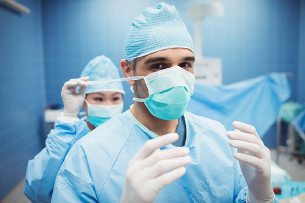face_mask: (135, 47, 195, 121), (87, 87, 123, 128)
